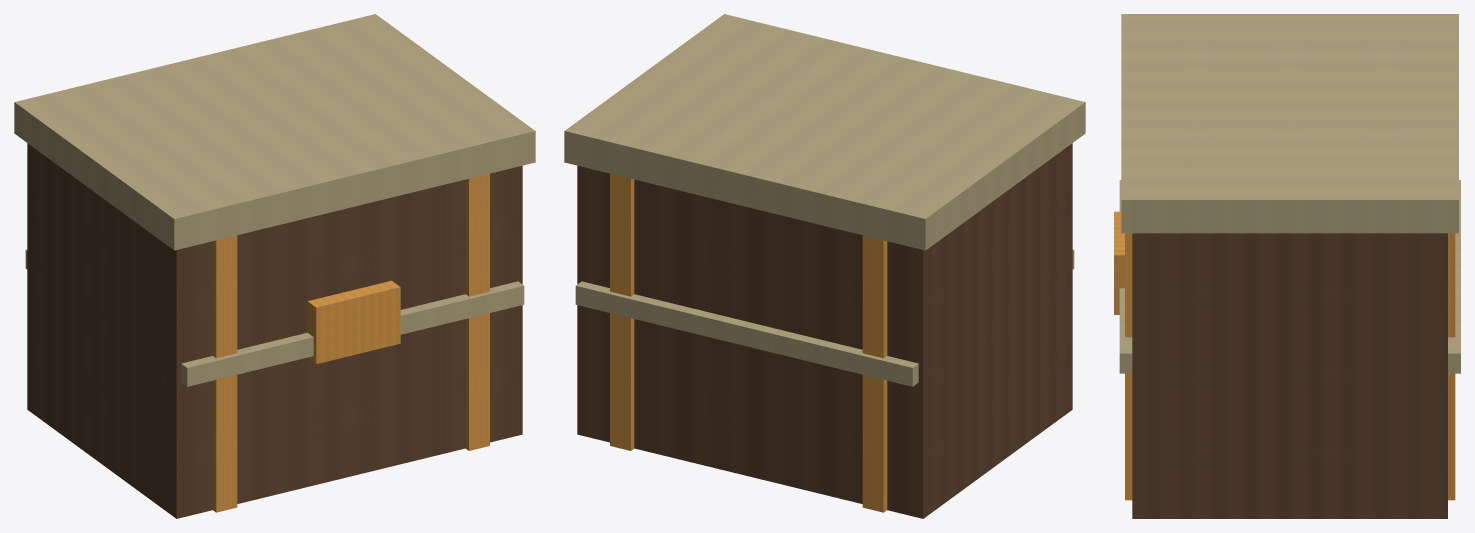
File: atlas100-clockwork-util02.glb
3 renders of one model, left to right at view 1: azimuth 30°, elevation 25°; view 2: azimuth 150°, elevation 25°; view 3: azimuth 270°, elevation 25°, orthographic. The views are drawn at different scales.
Visible parts, largest first — view 1: atlas100-clockwork-util02:part-000, atlas100-clockwork-util02:part-005, atlas100-clockwork-util02:part-001, atlas100-clockwork-util02:part-004, atlas100-clockwork-util02:part-002, atlas100-clockwork-util02:part-006; view 2: atlas100-clockwork-util02:part-000, atlas100-clockwork-util02:part-005, atlas100-clockwork-util02:part-003, atlas100-clockwork-util02:part-001, atlas100-clockwork-util02:part-002; view 3: atlas100-clockwork-util02:part-000, atlas100-clockwork-util02:part-005, atlas100-clockwork-util02:part-002, atlas100-clockwork-util02:part-003, atlas100-clockwork-util02:part-006, atlas100-clockwork-util02:part-004.
Boxes of the visible parts, x1=… form: atlas100-clockwork-util02:part-000: x1=27, y1=143, x2=522, y2=518; atlas100-clockwork-util02:part-005: x1=14, y1=14, x2=535, y2=250; atlas100-clockwork-util02:part-001: x1=212, y1=235, x2=237, y2=512; atlas100-clockwork-util02:part-004: x1=181, y1=281, x2=524, y2=386; atlas100-clockwork-util02:part-002: x1=465, y1=173, x2=489, y2=450; atlas100-clockwork-util02:part-006: x1=307, y1=280, x2=400, y2=364; atlas100-clockwork-util02:part-000: x1=577, y1=143, x2=1072, y2=518; atlas100-clockwork-util02:part-005: x1=564, y1=14, x2=1085, y2=250; atlas100-clockwork-util02:part-003: x1=575, y1=281, x2=918, y2=386; atlas100-clockwork-util02:part-001: x1=862, y1=235, x2=887, y2=512; atlas100-clockwork-util02:part-002: x1=610, y1=173, x2=634, y2=450; atlas100-clockwork-util02:part-000: x1=1132, y1=233, x2=1447, y2=518; atlas100-clockwork-util02:part-005: x1=1121, y1=14, x2=1458, y2=233; atlas100-clockwork-util02:part-002: x1=1125, y1=233, x2=1455, y2=500; atlas100-clockwork-util02:part-003: x1=1448, y1=180, x2=1460, y2=373; atlas100-clockwork-util02:part-006: x1=1114, y1=211, x2=1124, y2=314; atlas100-clockwork-util02:part-004: x1=1119, y1=180, x2=1132, y2=373.
Size of the model in its own units: 1.34 by 1.08 by 1.05.
Materials: 3 (3 with a texture image).
